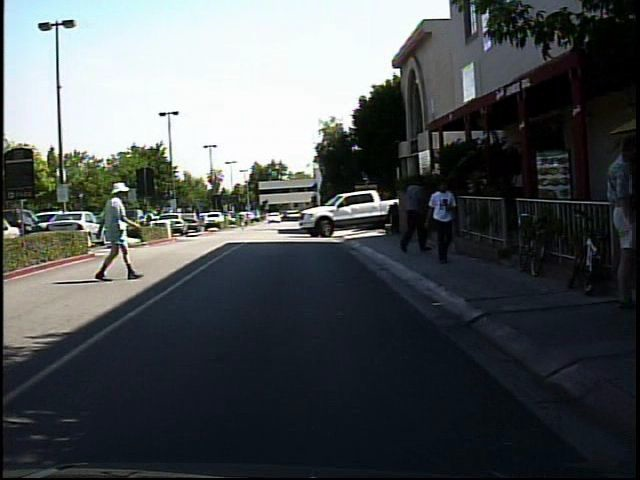person: (603, 130, 639, 310), (94, 180, 144, 284), (427, 175, 463, 270), (398, 171, 430, 254), (141, 207, 158, 243), (236, 204, 252, 229)
